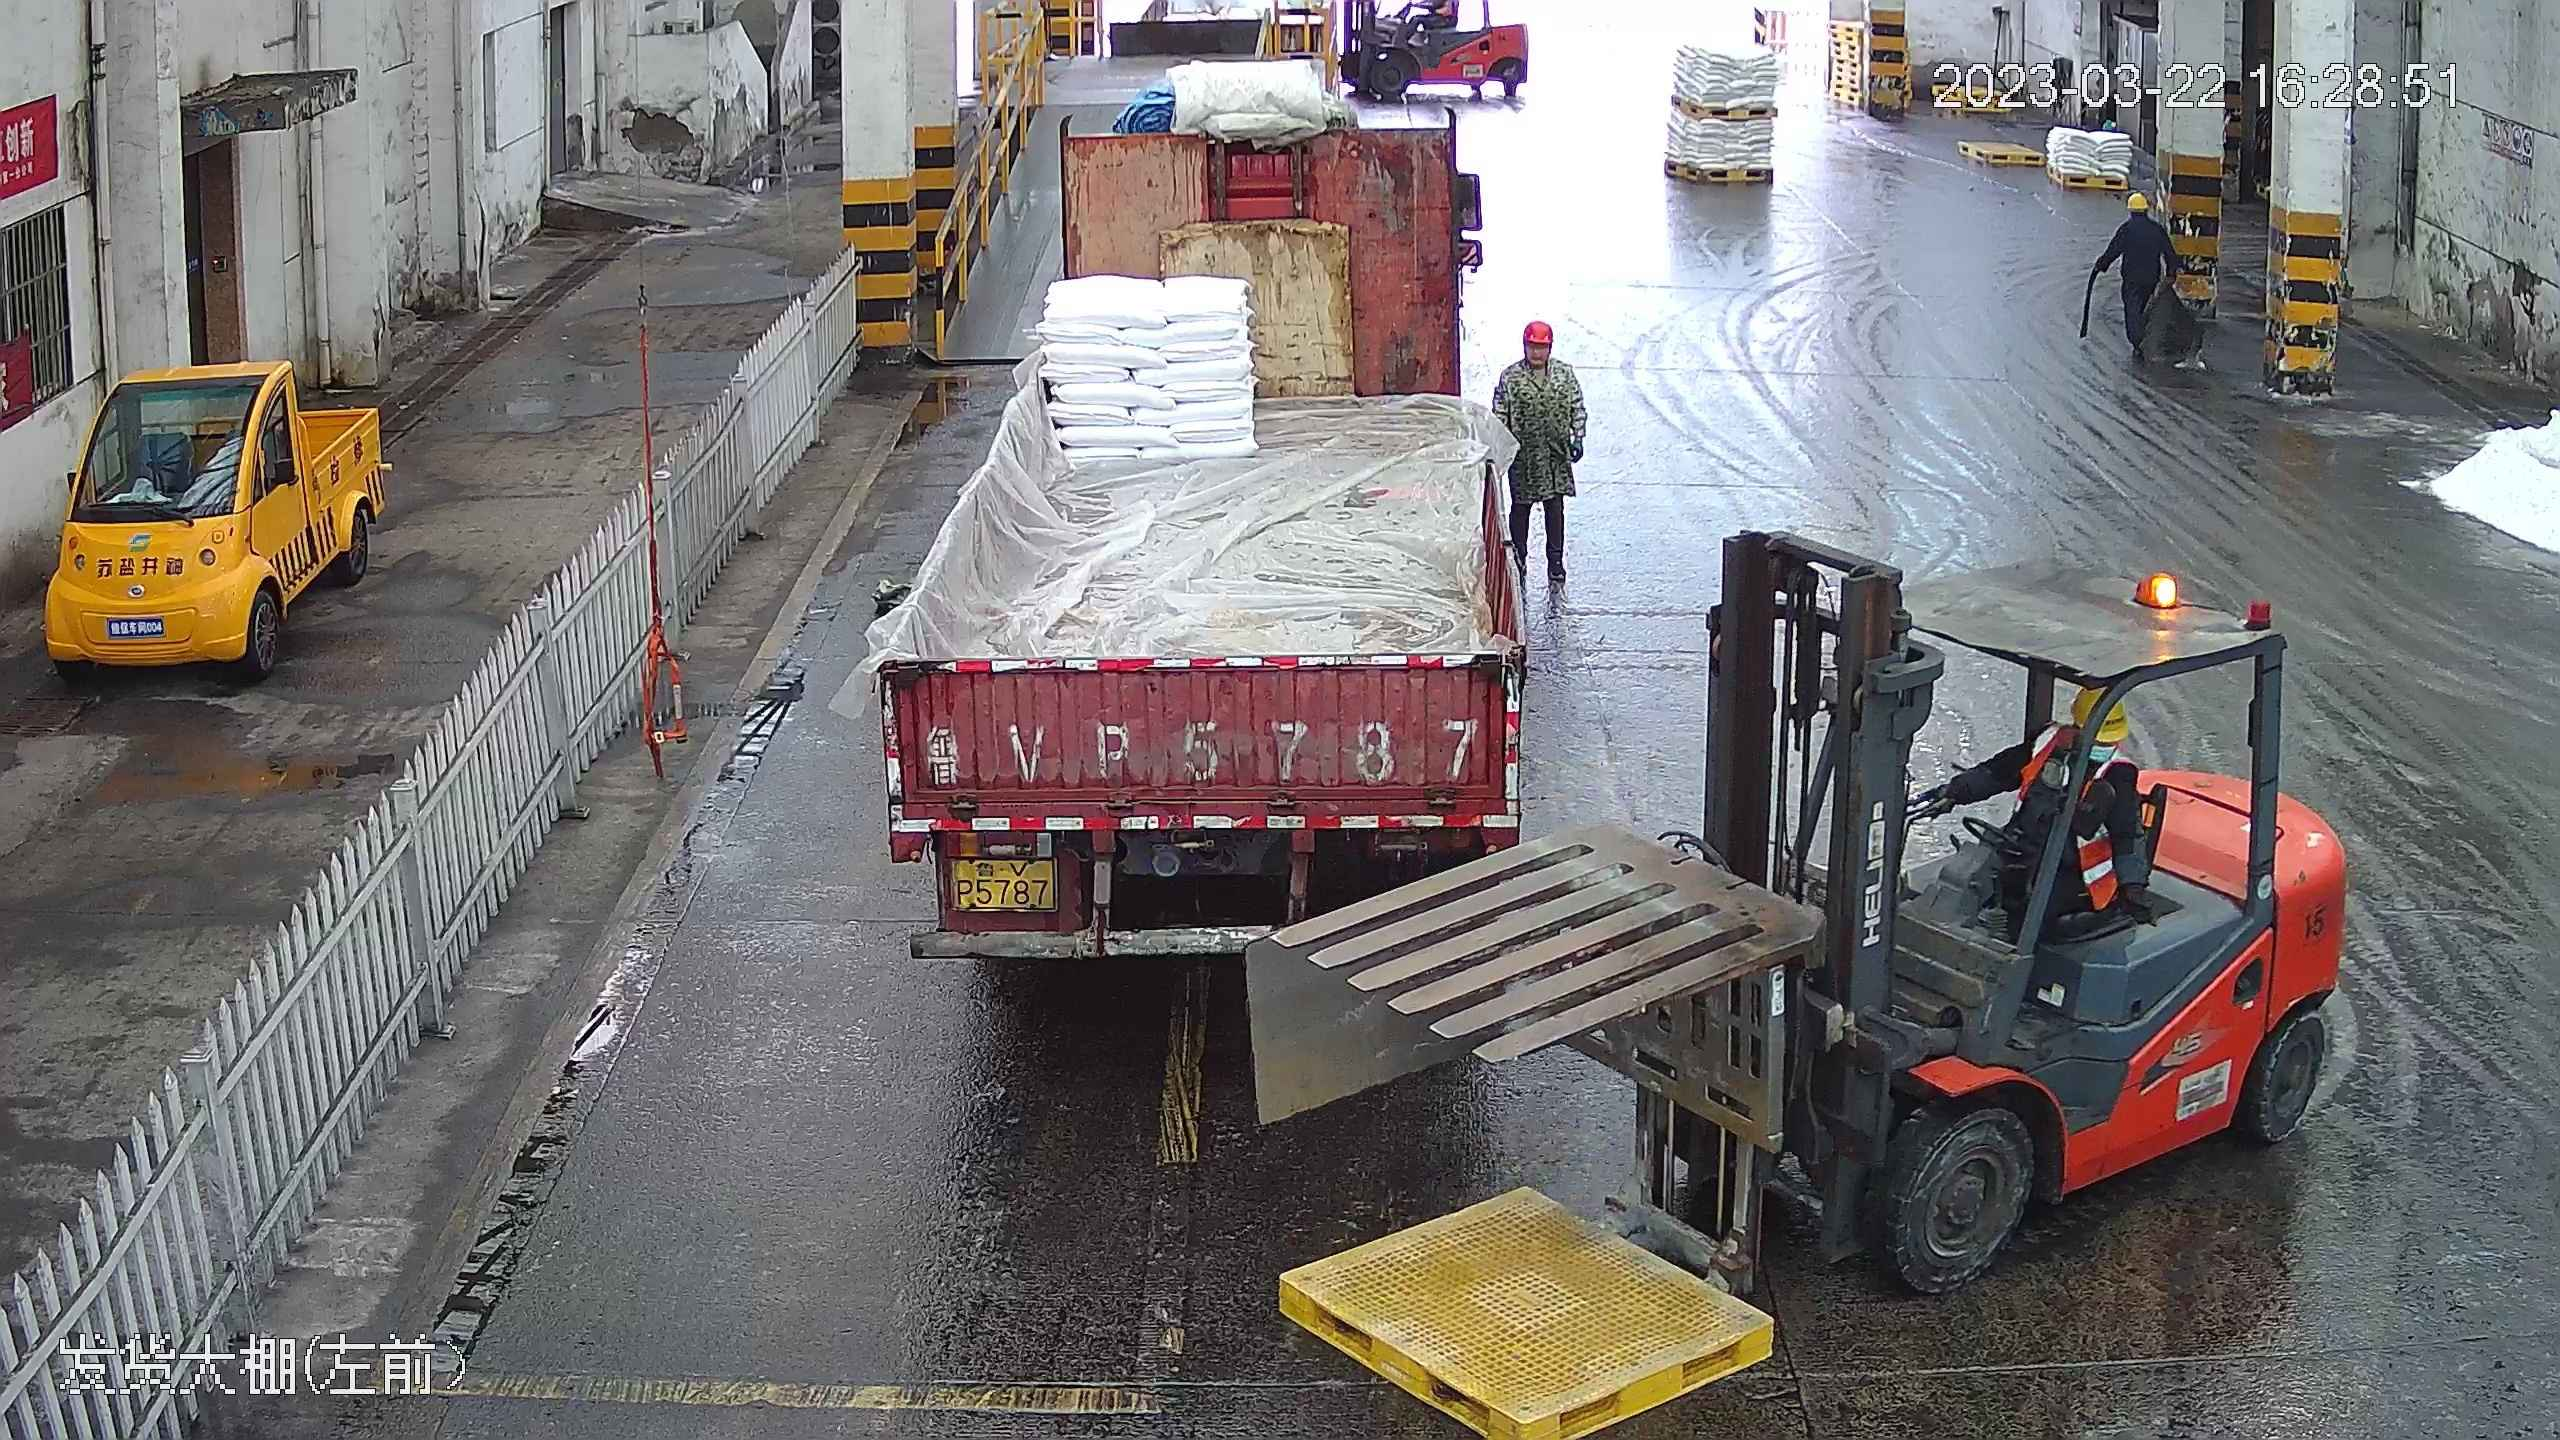head: (2042, 685, 2144, 812), (1500, 316, 1580, 399), (2113, 186, 2170, 246)
helmet: (2068, 681, 2132, 738), (1518, 315, 1555, 344), (2124, 187, 2158, 215)
people: (1494, 310, 1590, 599), (2095, 183, 2176, 374)
truck: (859, 24, 1529, 961)
